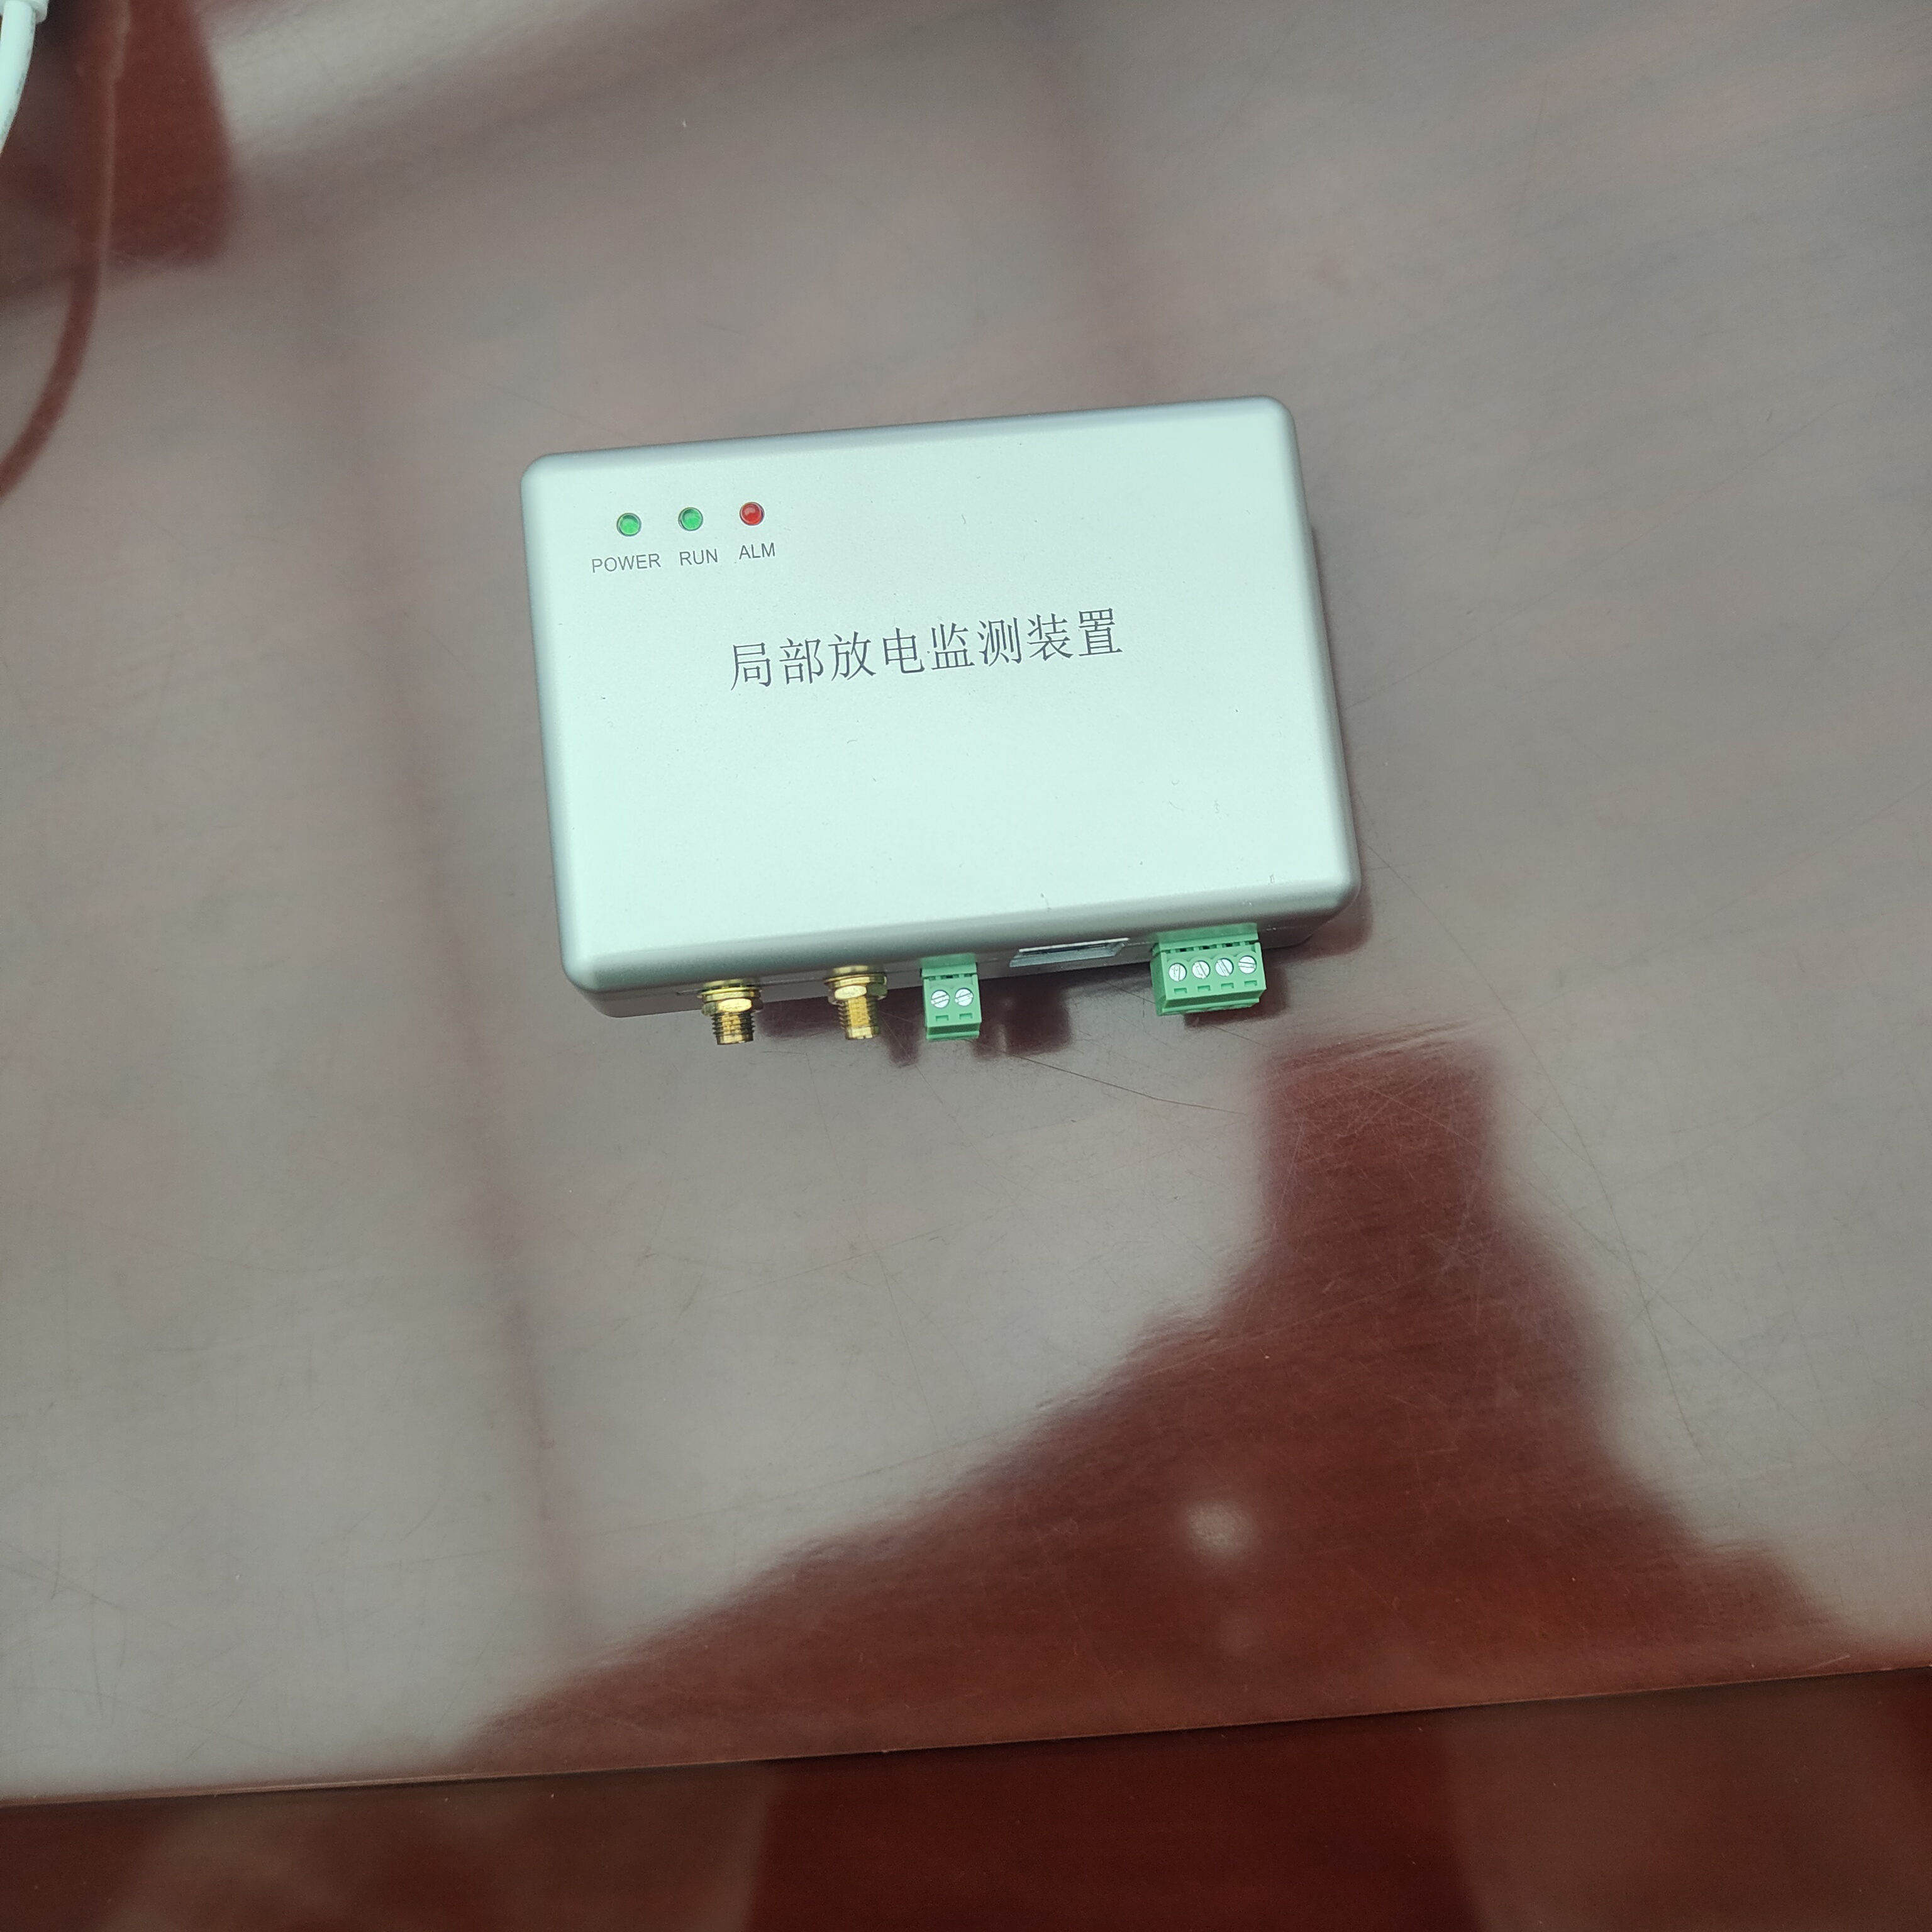jbfdjc: (485, 407, 1433, 1086)
